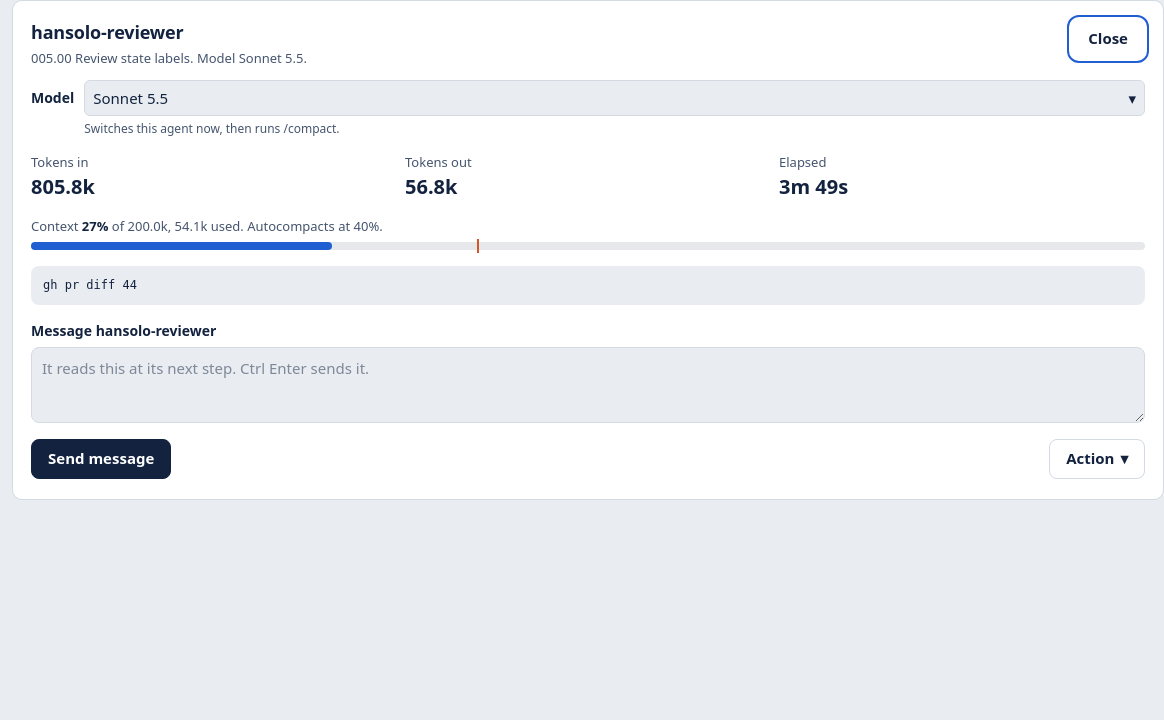
Test: AgentDrawer › shows a refused message and keeps the text
Type "hi" into the text box labelled "Message hansolo-reviewer" at [588, 385], box top-left (31, 347), bottom-right (1145, 423)
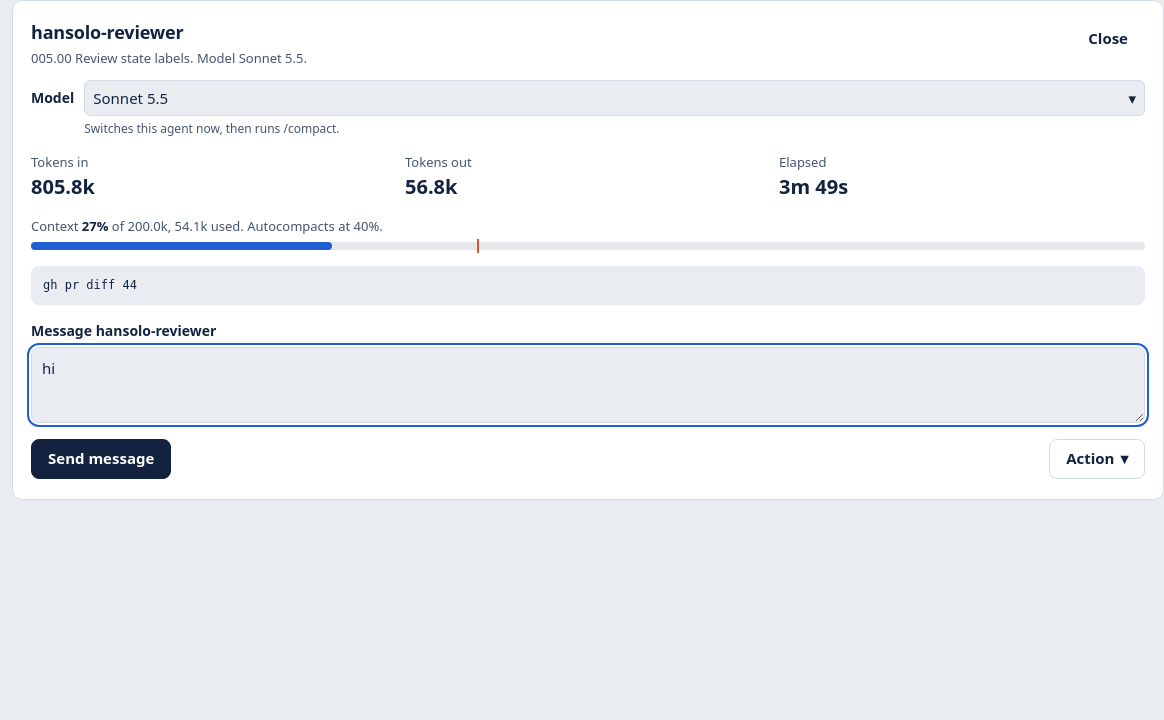
Click the button "Send message" at [101, 459], box top-left (31, 439), bottom-right (171, 479)
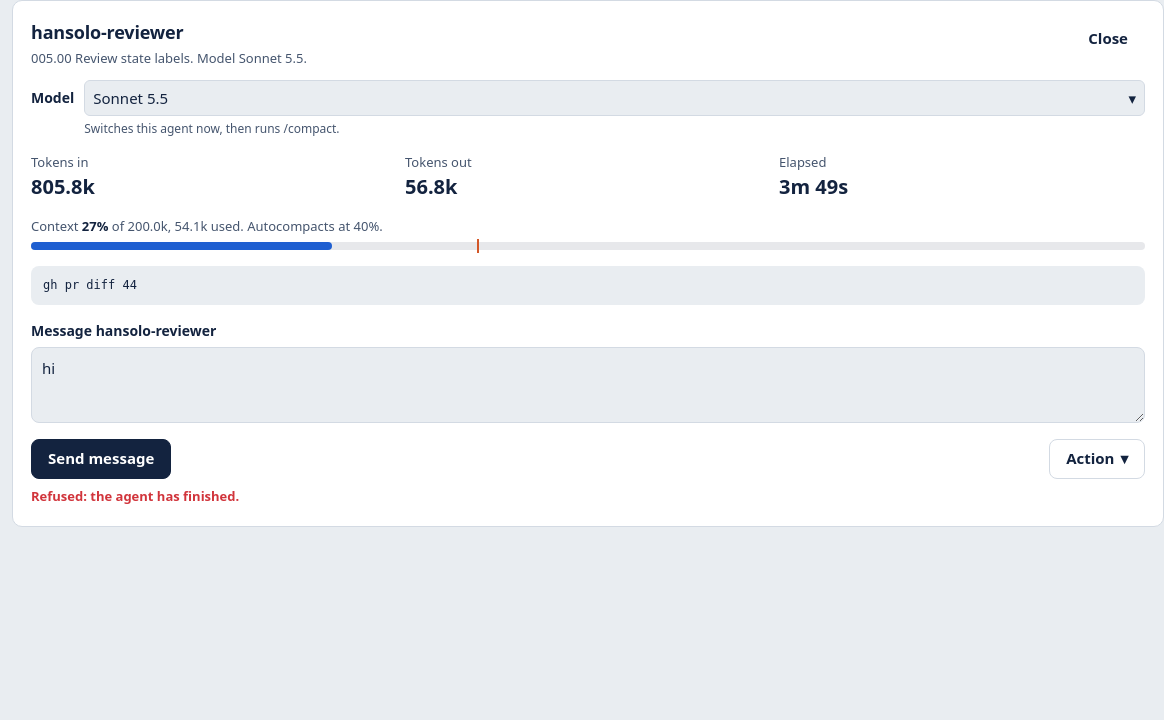
Now the text "Refused: the agent has finished." below "gh pr diff 44" is shown, box top-left (31, 487), bottom-right (239, 505)
